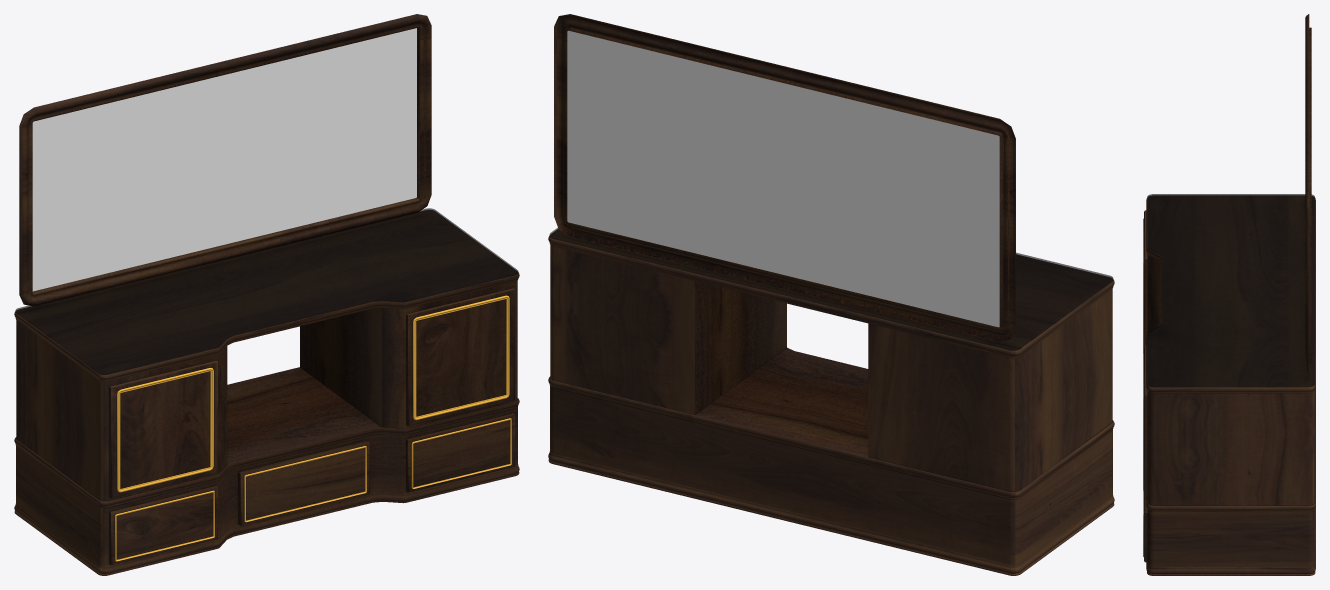
The model's file is furniture.glb.
3 views of the same model, side by side, from view 1: azimuth 30°, elevation 25°; view 2: azimuth 150°, elevation 25°; view 3: azimuth 270°, elevation 25° (orthographic). The views are drawn at different scales.
Parts seen in each view (by area): view 1: Object_3, Object_5, Object_4, Object_6; view 2: Object_3, Object_5, Object_4; view 3: Object_3, Object_4, Object_6.
Boxes of the visible parts, x1,y1,x2,y2 form: Object_3: (14,14,519,575); Object_5: (32,28,416,291); Object_4: (15,208,518,374); Object_6: (115,295,511,561); Object_3: (548,14,1114,575); Object_5: (567,30,999,327); Object_4: (549,228,1113,350); Object_3: (1144,14,1315,575); Object_4: (1147,194,1314,387); Object_6: (1143,218,1143,556).
Size of the model in its own units: 1422 by 1299 by 539.
4 materials, 1 textured.
